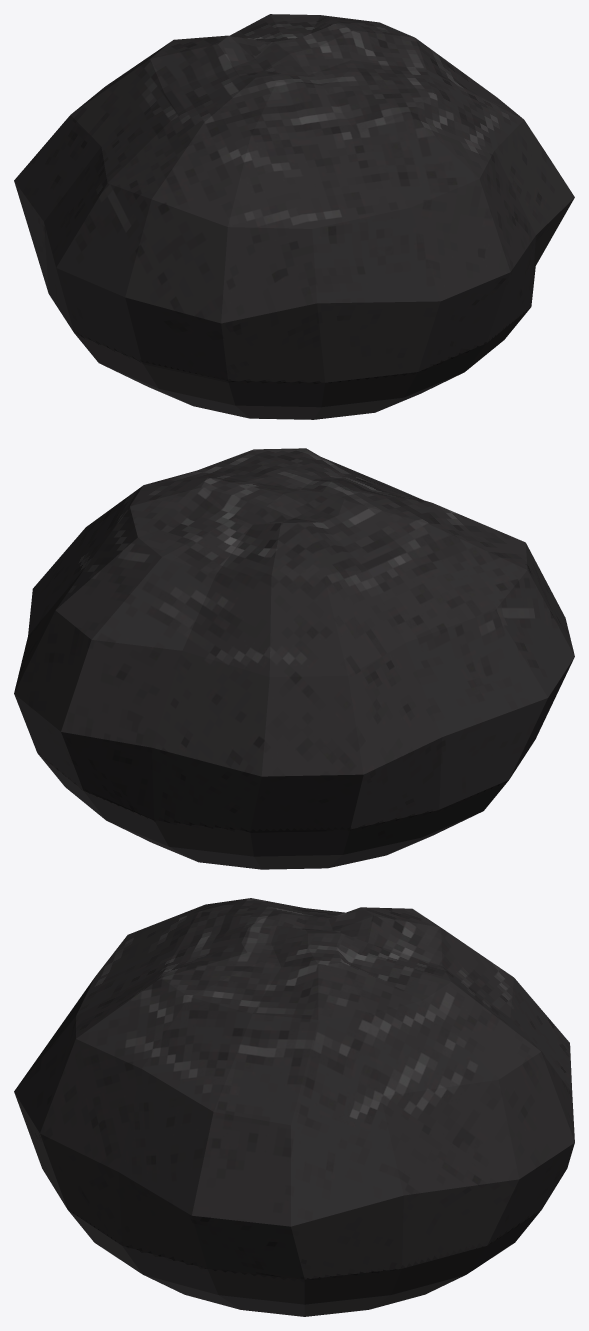
Rendered from Hairball.fbx.
The picture shows the model from 3 angles, top to bottom: view 1: azimuth 30°, elevation 25°; view 2: azimuth 150°, elevation 25°; view 3: azimuth 270°, elevation 25°; orthographic projection. The views are drawn at different scales.
Visible parts, largest first — view 1: Hairball; view 2: Hairball; view 3: Hairball.
Boxes of the visible parts, left/top/right/bottom form: Hairball: left=14, top=14, right=574, bottom=419; Hairball: left=14, top=448, right=574, bottom=869; Hairball: left=14, top=898, right=574, bottom=1316.
Bounding box in the file's own units: 120 × 69.52 × 113.
Materials: 1 (1 with a texture image).
